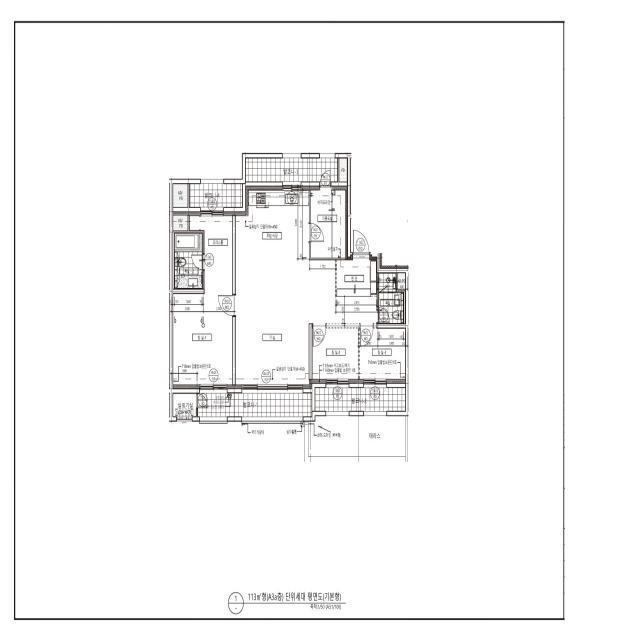space_balconi: (198, 393, 312, 417), (246, 158, 337, 182), (315, 388, 405, 411), (190, 184, 242, 207)
space_bedroom: (173, 289, 232, 388), (312, 328, 358, 383), (360, 328, 405, 383)
space_dressroom: (190, 212, 232, 289)
space_front: (337, 255, 377, 297)
space_kitchen: (236, 186, 309, 258)
space_living_room: (232, 258, 377, 388)
space_multipurpose_space: (311, 186, 347, 258)
space_other: (173, 184, 188, 207), (173, 212, 188, 231), (339, 158, 347, 182), (398, 273, 405, 290)
space_outdoor_room: (173, 394, 196, 416)
space_toilet: (175, 233, 202, 289), (379, 274, 403, 323)
